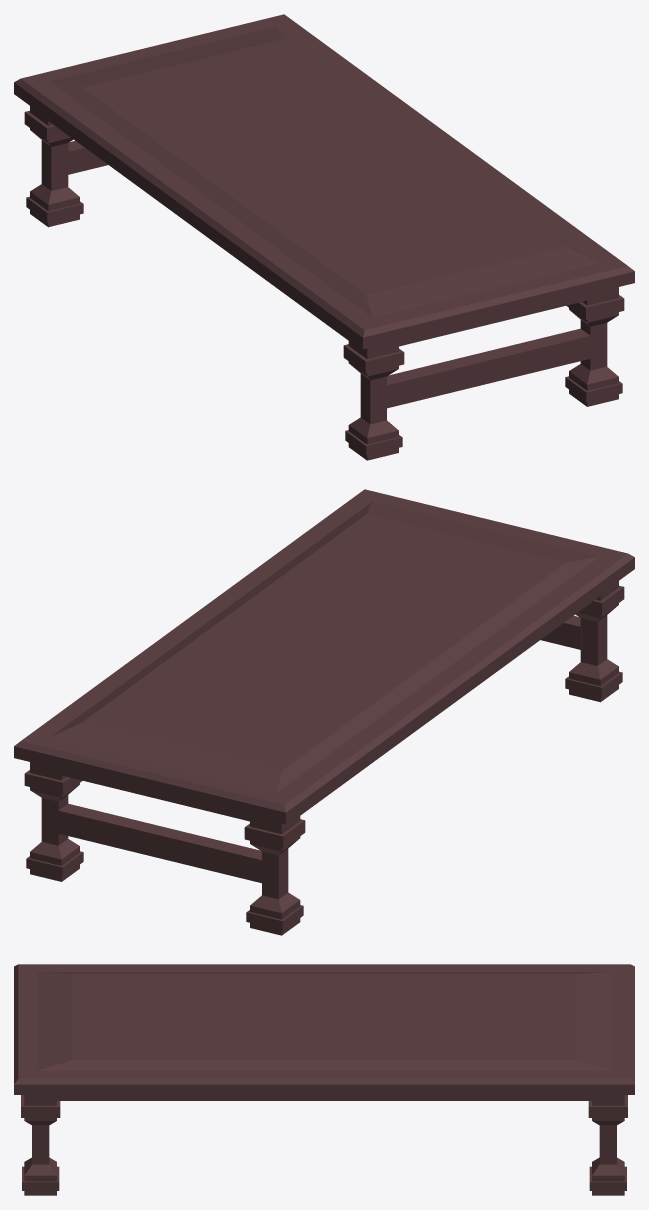
Rendered from largetable.fbx.
3 views of the same model, one above another, from view 1: azimuth 30°, elevation 25°; view 2: azimuth 150°, elevation 25°; view 3: azimuth 270°, elevation 25° (orthographic). The views are drawn at different scales.
Parts seen in each view (by area): view 1: table; view 2: table; view 3: table.
Boxes of the visible parts, bbox=[...] form: table: bbox=[14, 14, 634, 460]; table: bbox=[14, 489, 634, 935]; table: bbox=[14, 964, 634, 1195].
Size of the model in its own units: 1.7 by 0.8328 by 3.78.
